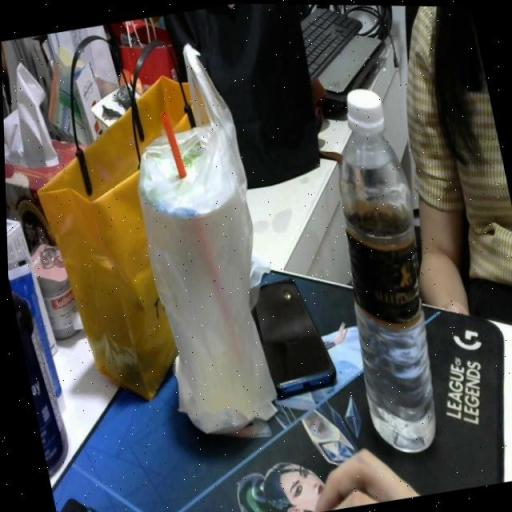plastic: (338, 87, 434, 454)
